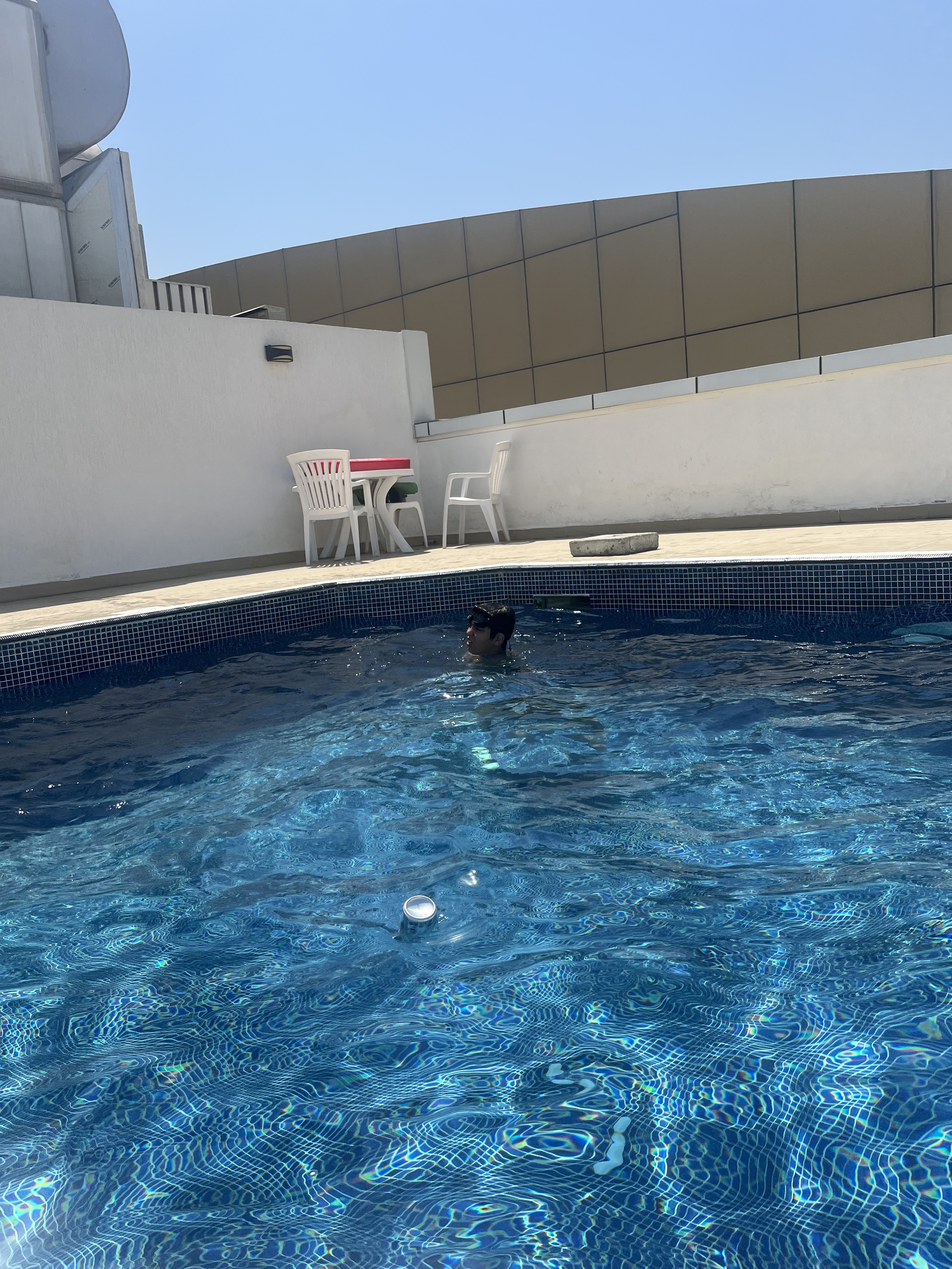debris: (395, 881, 439, 963)
